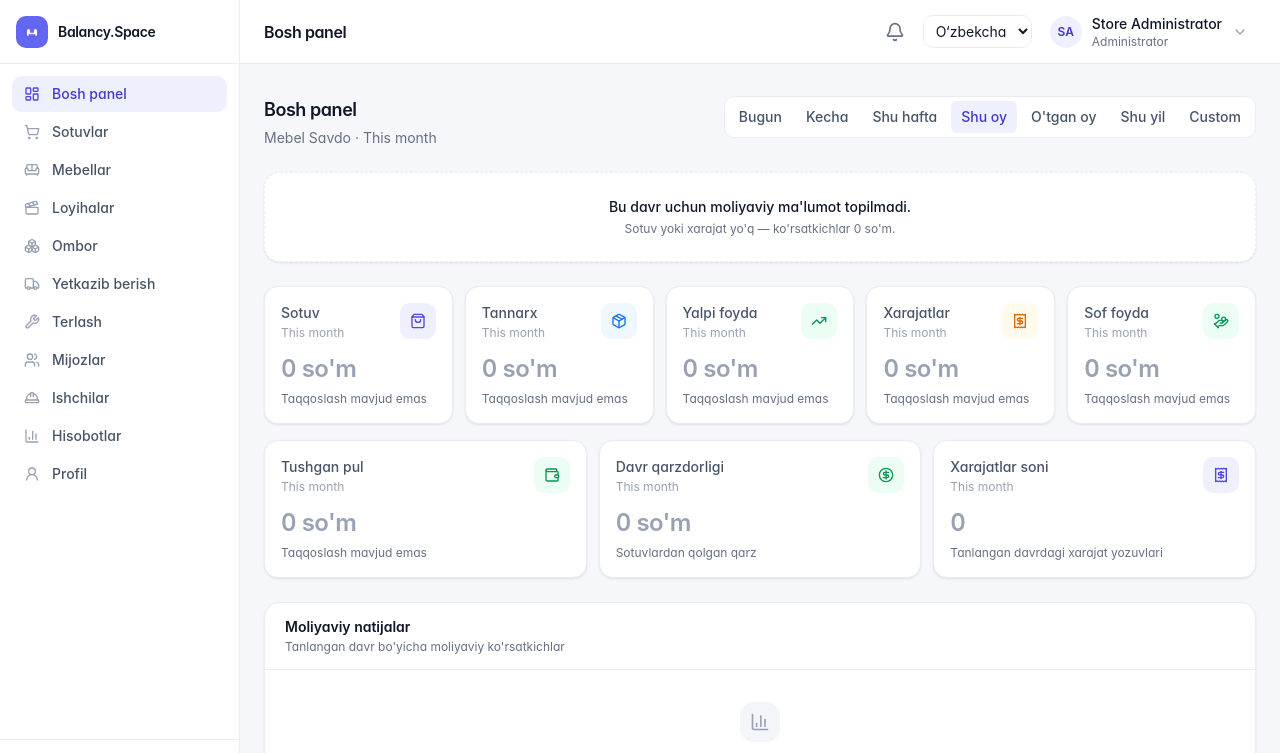
Test: application routes › keeps the session while moving between modules
Expected: the 1st heading "Bosh panel" is shown, 264,22 -> 346,42
Click the link "Mijozlar" at (65, 360), box 24,351 -> 106,368
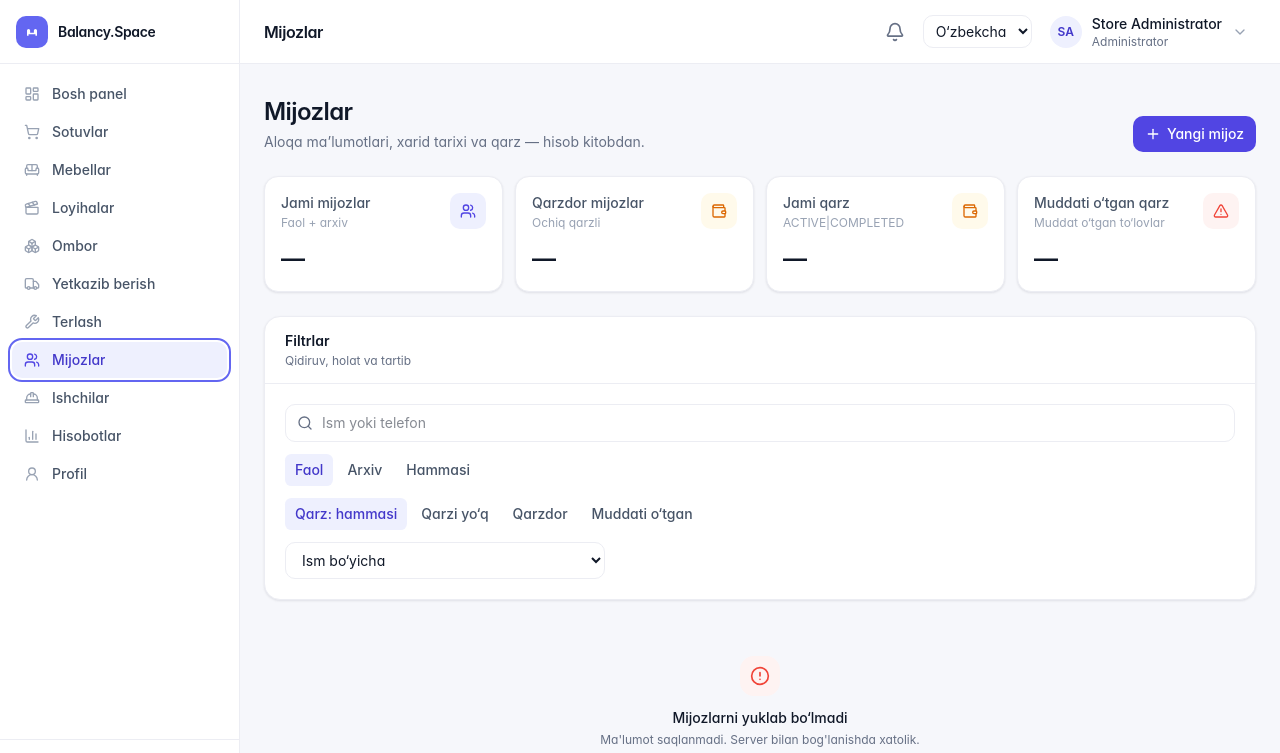
Click the link "Hisobotlar" at (73, 436), box 24,427 -> 121,444
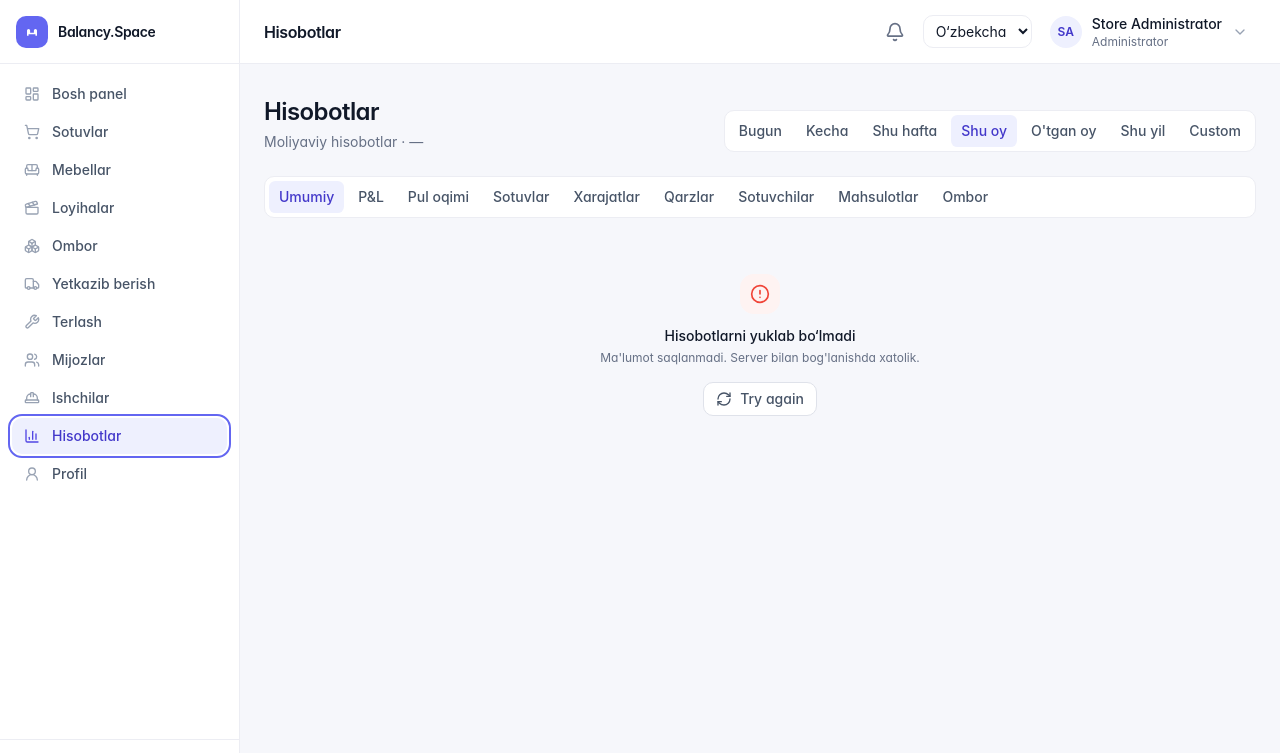
Expected: the text "Store Administrator" is shown, 1092,14 -> 1222,34
Now the 1st heading "Hisobotlar" is shown, box 264,22 -> 341,42
